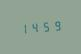five: (40, 20, 50, 33)
four: (29, 20, 39, 34)
nine: (51, 19, 61, 32)
one: (18, 21, 28, 35)
